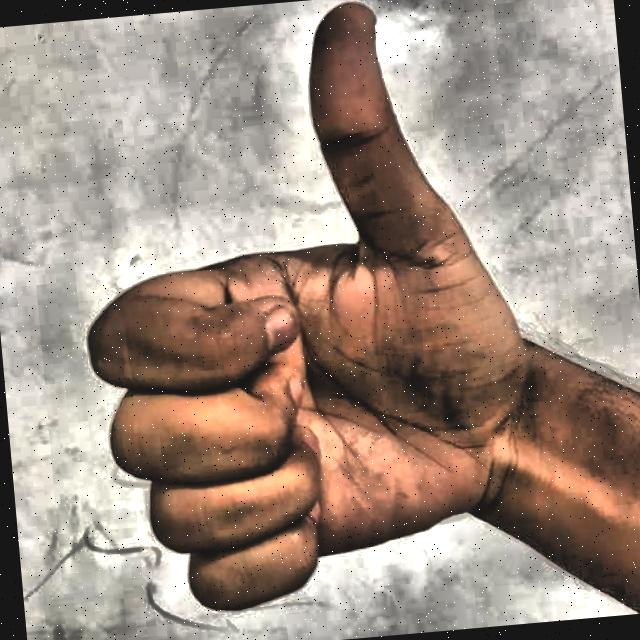Do: (18, 0, 545, 640)
